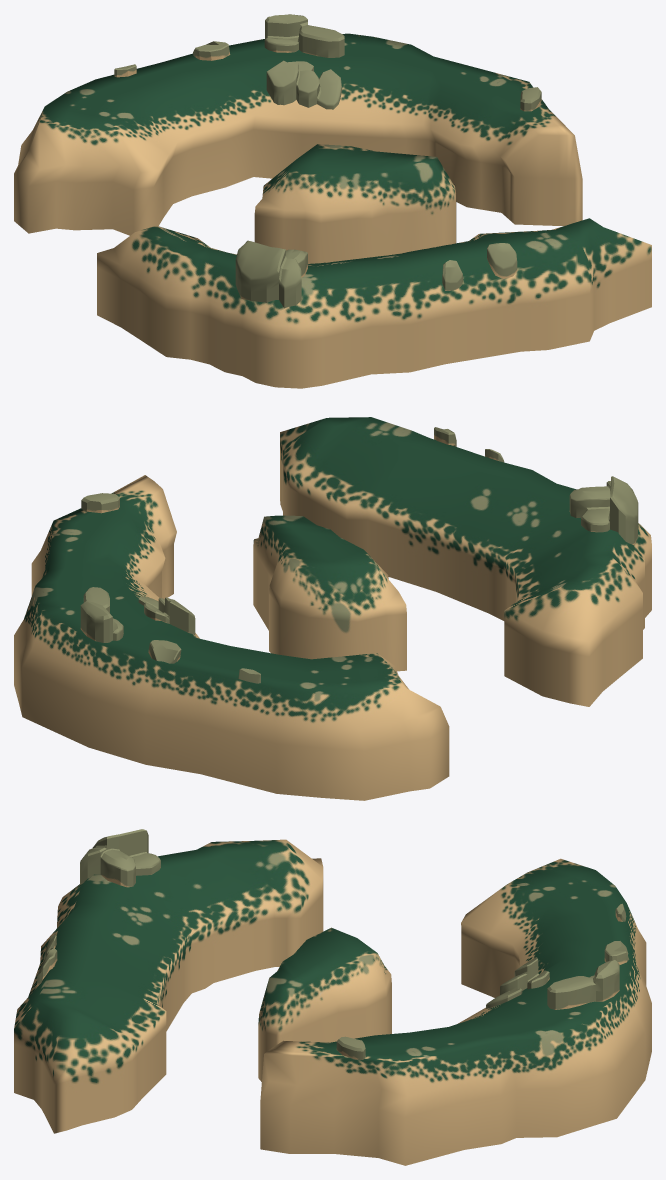
The model's file is Ile Central Ouest .fbx.
3 views of the same model, one above another, from view 1: azimuth 30°, elevation 25°; view 2: azimuth 150°, elevation 25°; view 3: azimuth 270°, elevation 25° (orthographic). The views are drawn at different scales.
Parts seen in each view (by area): view 1: Ile_Centrale_Ouest; view 2: Ile_Centrale_Ouest; view 3: Ile_Centrale_Ouest.
Boxes of the visible parts, x1,y1,x2,y2 form: Ile_Centrale_Ouest: (14, 14, 651, 388); Ile_Centrale_Ouest: (14, 417, 651, 800); Ile_Centrale_Ouest: (14, 829, 651, 1165).
Bounding box in the file's own units: 146 × 35.12 × 161.
1 material, 1 textured.
